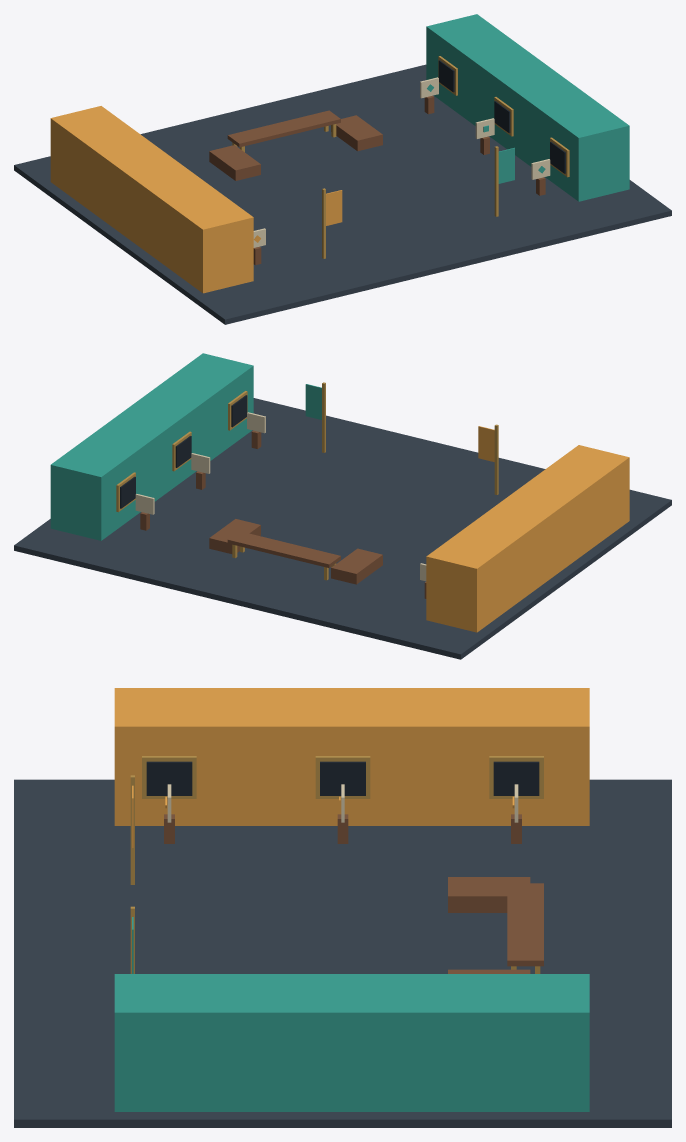
Rendered from hearing_square.glb.
3 renders of one model, top to bottom at view 1: azimuth 30°, elevation 25°; view 2: azimuth 150°, elevation 25°; view 3: azimuth 270°, elevation 25°, orthographic. The views are drawn at different scales.
Visible parts, largest first — view 1: hearing_square; view 2: hearing_square; view 3: hearing_square.
Boxes of the visible parts, x1,y1,x2,y2 form: hearing_square: [14, 14, 671, 324]; hearing_square: [14, 353, 671, 659]; hearing_square: [14, 688, 671, 1127].
Bounding box in the file's own units: 88 × 14 × 72.
